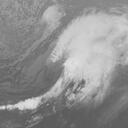cyclone: (48, 8, 124, 101)
